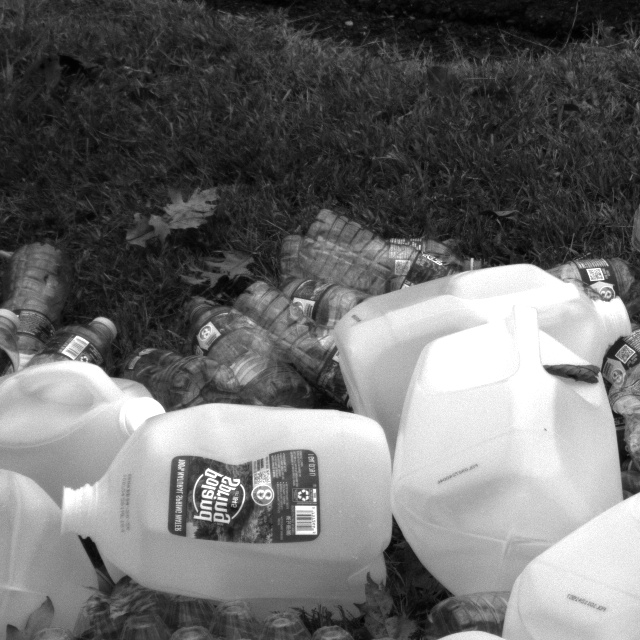bottle: (185, 293, 308, 411), (315, 205, 478, 288), (0, 234, 75, 384), (233, 279, 377, 340), (119, 336, 213, 412), (282, 244, 431, 288), (41, 308, 120, 381)
can: (60, 397, 396, 619), (384, 311, 627, 616), (343, 262, 638, 440), (0, 359, 170, 533), (498, 465, 640, 640), (0, 468, 106, 640)
container: (0, 572, 464, 640)
